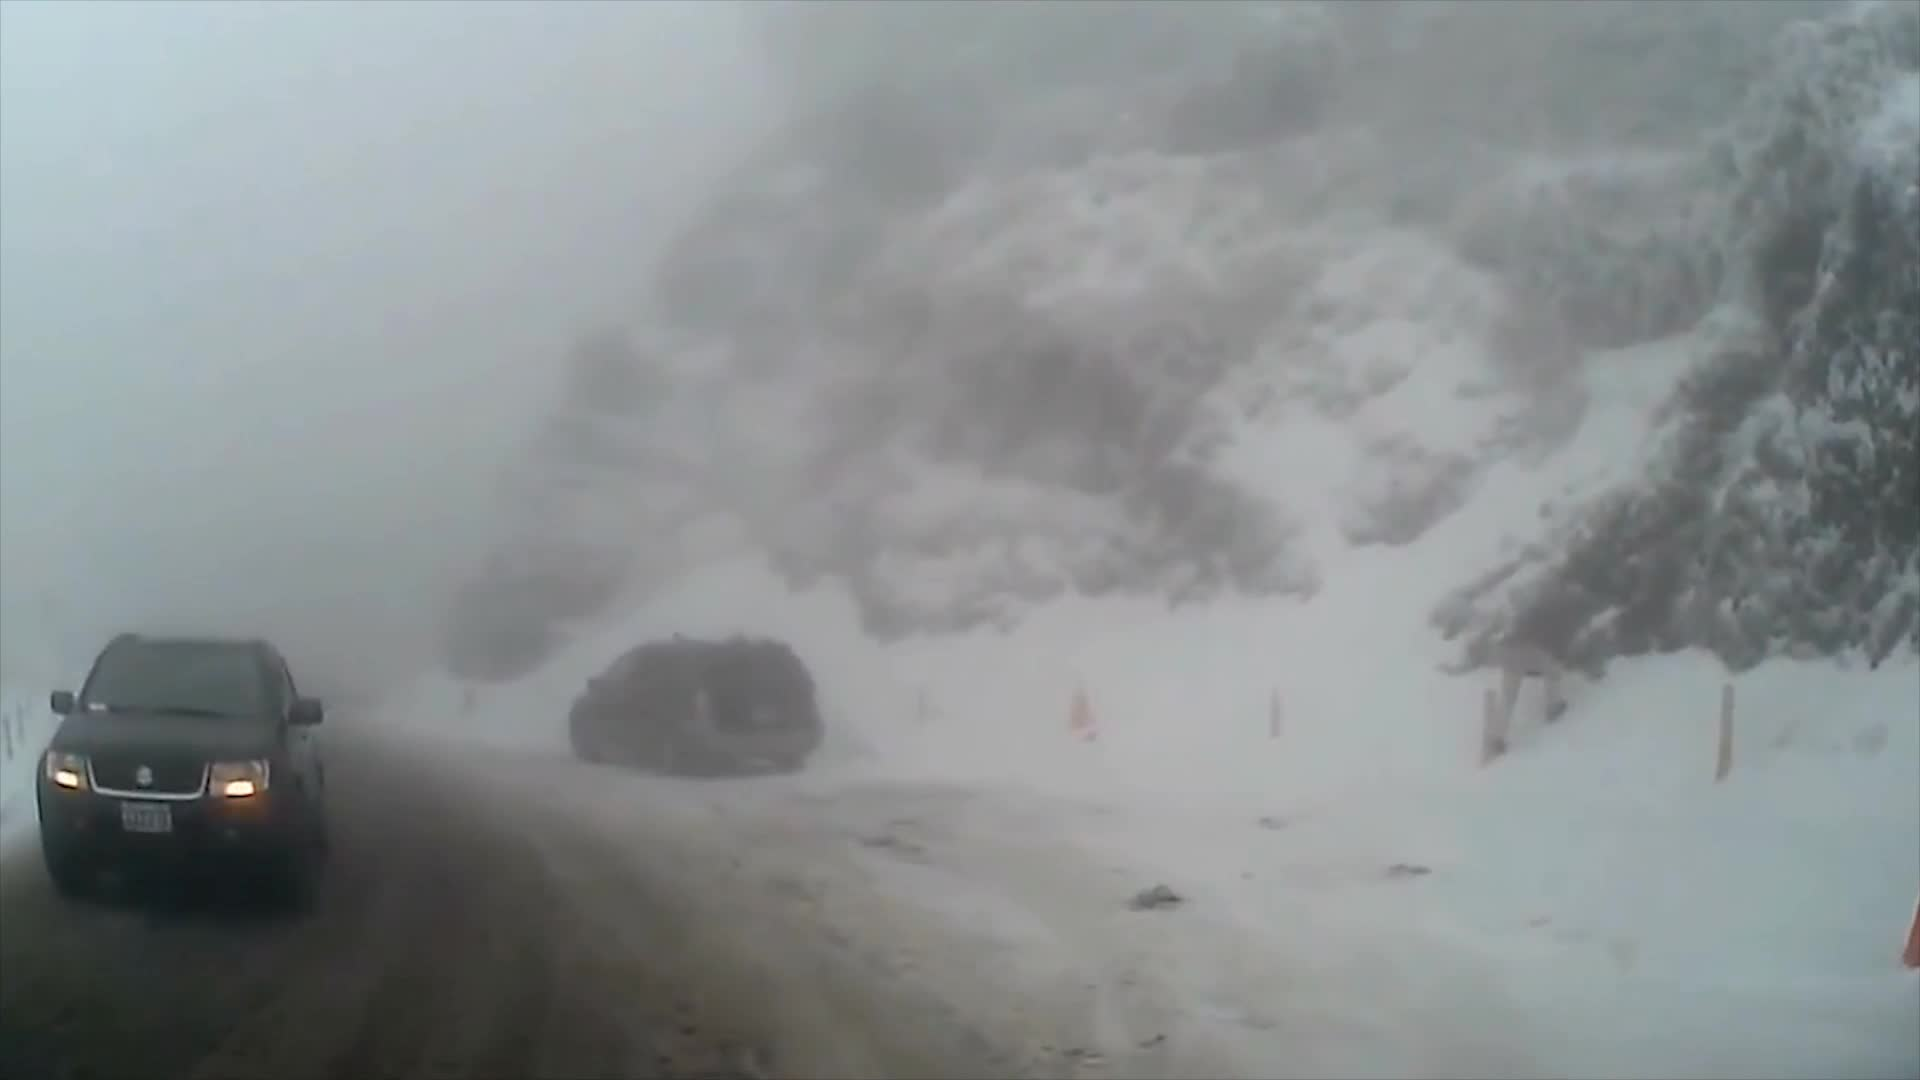vehicle: (32, 632, 338, 916), (567, 638, 820, 781)
